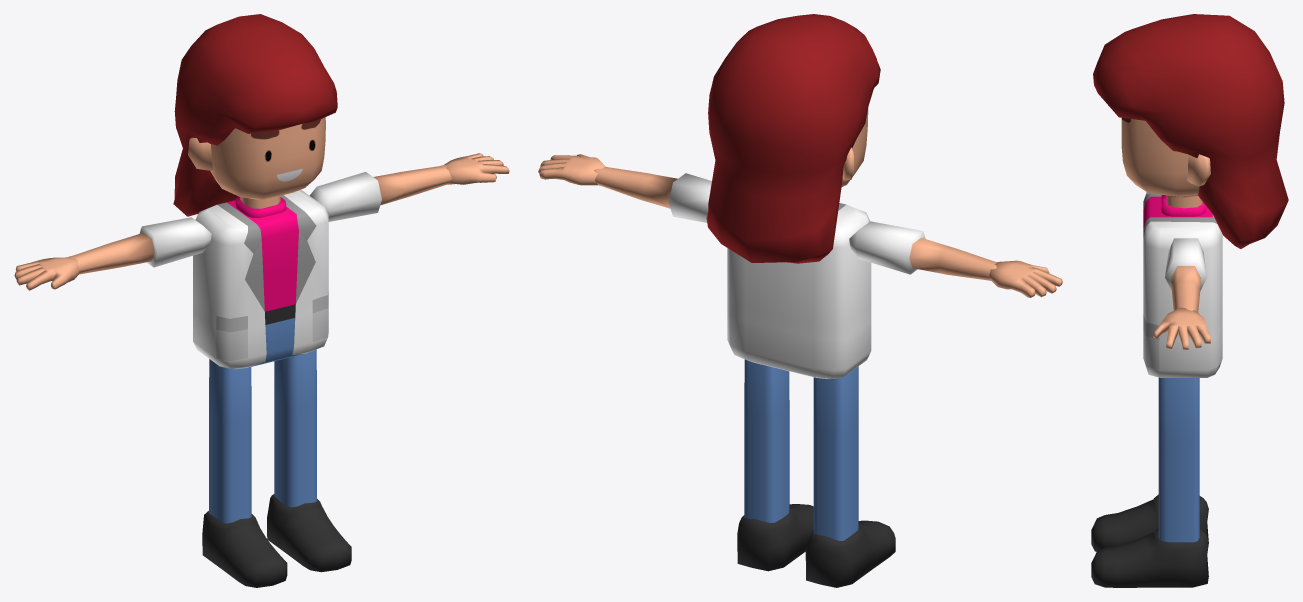
The model's file is NPC_White02_RedHair02.gltf.
3 renders of one model, left to right at view 1: azimuth 30°, elevation 25°; view 2: azimuth 150°, elevation 25°; view 3: azimuth 270°, elevation 25°, orthographic. The views are drawn at different scales.
Visible parts, largest first — view 1: NPC_Corpo_White2_RedHair.002; view 2: NPC_Corpo_White2_RedHair.002; view 3: NPC_Corpo_White2_RedHair.002.
Part boxes in pixels (x1,y1,x2,y2): NPC_Corpo_White2_RedHair.002: (14, 14, 509, 587); NPC_Corpo_White2_RedHair.002: (538, 14, 1062, 587); NPC_Corpo_White2_RedHair.002: (1091, 14, 1288, 587).
Size of the model in its own units: 2.31 by 2.33 by 0.7777.
1 material, 1 textured.
